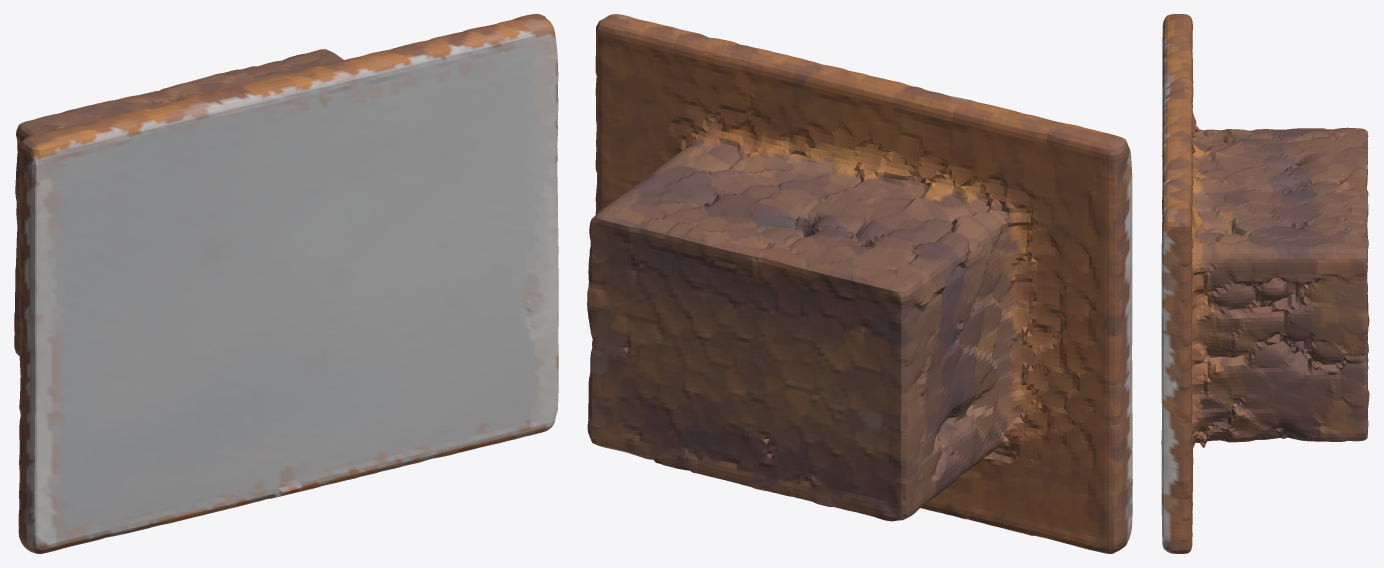
3 views of the same model, side by side, from view 1: azimuth 30°, elevation 25°; view 2: azimuth 150°, elevation 25°; view 3: azimuth 270°, elevation 25° (orthographic). The views are drawn at different scales.
Parts seen in each view (by area): view 1: mesh.ply; view 2: mesh.ply; view 3: mesh.ply.
Part boxes in pixels (x1=…): mesh.ply: x1=14, y1=14, x2=558, y2=553; mesh.ply: x1=587, y1=14, x2=1132, y2=553; mesh.ply: x1=1161, y1=14, x2=1369, y2=553.
Bounding box in the file's own units: 0.9994 × 0.7474 × 0.4173.
